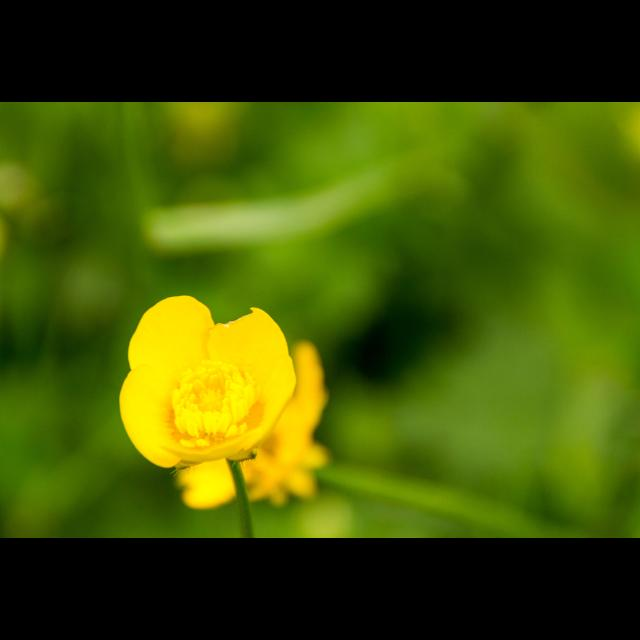Flower: (175, 336, 325, 510)
